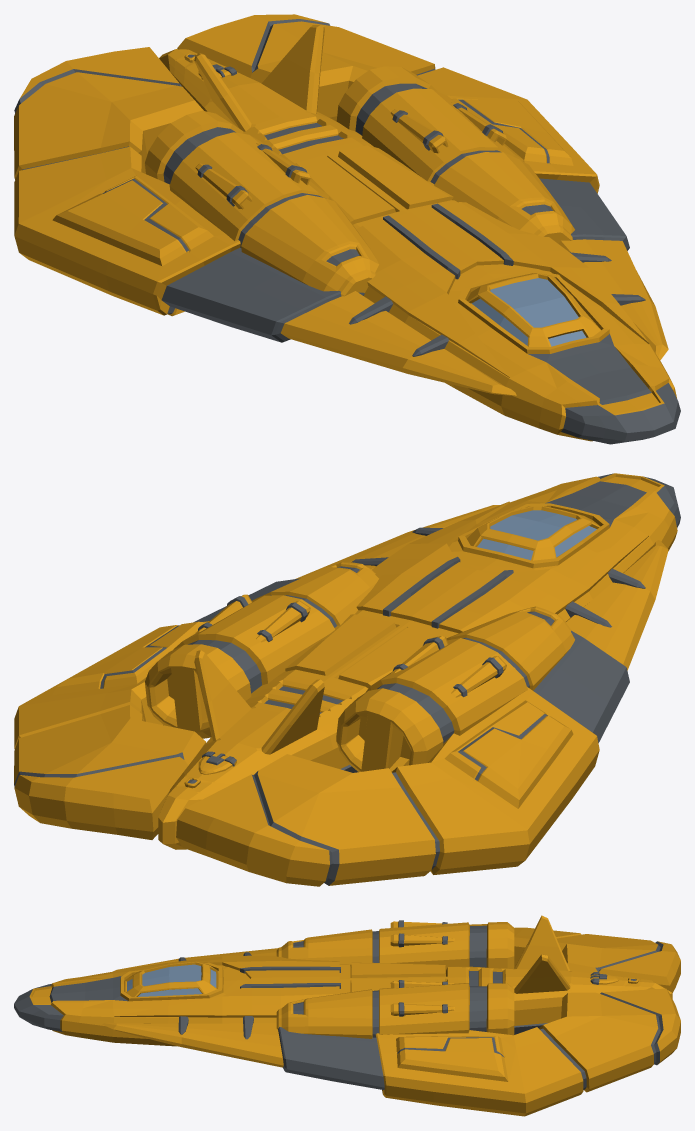
File: Fighter_02_Yellow.fbx
3 views of the same model, one above another, from view 1: azimuth 30°, elevation 25°; view 2: azimuth 150°, elevation 25°; view 3: azimuth 270°, elevation 25° (orthographic). The views are drawn at different scales.
Parts seen in each view (by area): view 1: Fighter_02_Yellow; view 2: Fighter_02_Yellow; view 3: Fighter_02_Yellow.
Part boxes in pixels (left/top/right/bottom): Fighter_02_Yellow: left=14, top=14, right=680, bottom=444; Fighter_02_Yellow: left=14, top=473, right=680, bottom=886; Fighter_02_Yellow: left=14, top=915, right=680, bottom=1116.
Bounding box in the file's own units: 783 × 220 × 1310.
3 materials, 3 textured.
